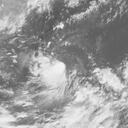cyclone: (31, 52, 67, 95)
